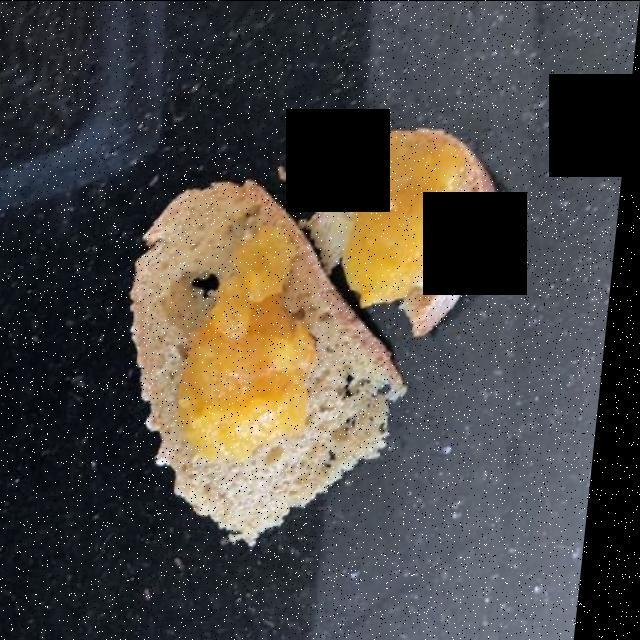bread: (143, 127, 504, 519)
jam: (184, 122, 482, 479)
